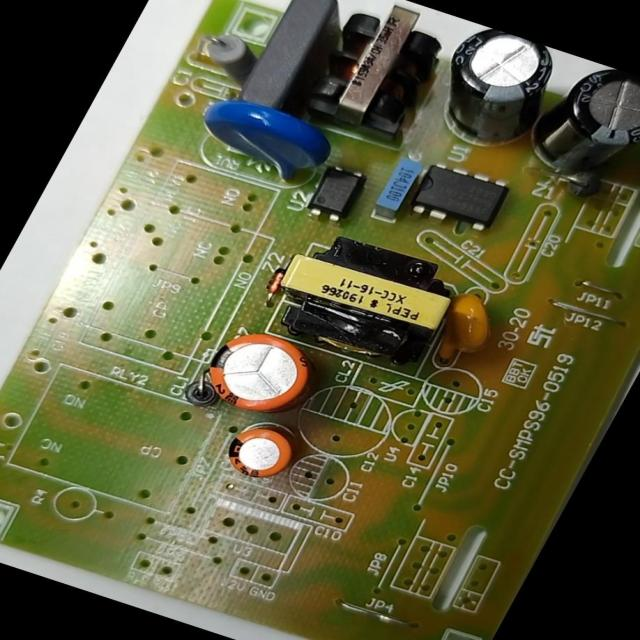Cap1: (188, 319, 329, 427)
Cap2: (210, 415, 304, 489)
Cap3: (410, 21, 573, 159)
Cap4: (521, 57, 639, 196)
MOSFET: (399, 154, 519, 240)
Mov: (180, 85, 344, 194)
Resistor: (184, 21, 271, 91)
Transformer: (255, 220, 474, 378), (291, 0, 467, 153)
